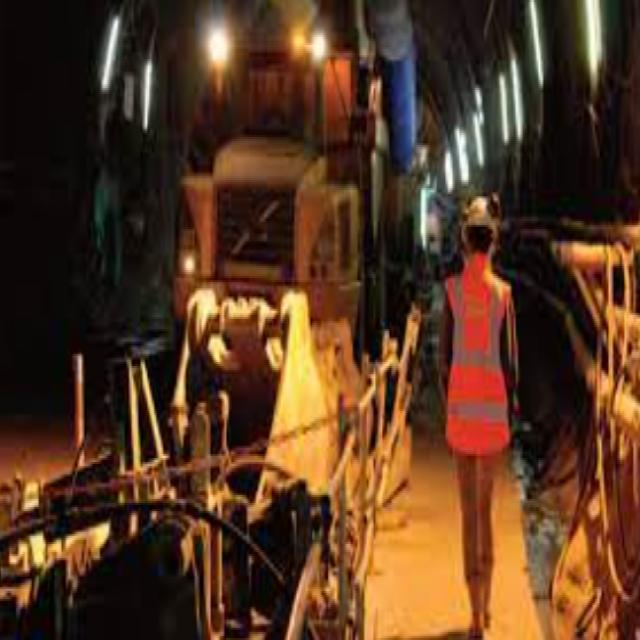helmet: (458, 192, 504, 266)
vest: (442, 249, 516, 462)
